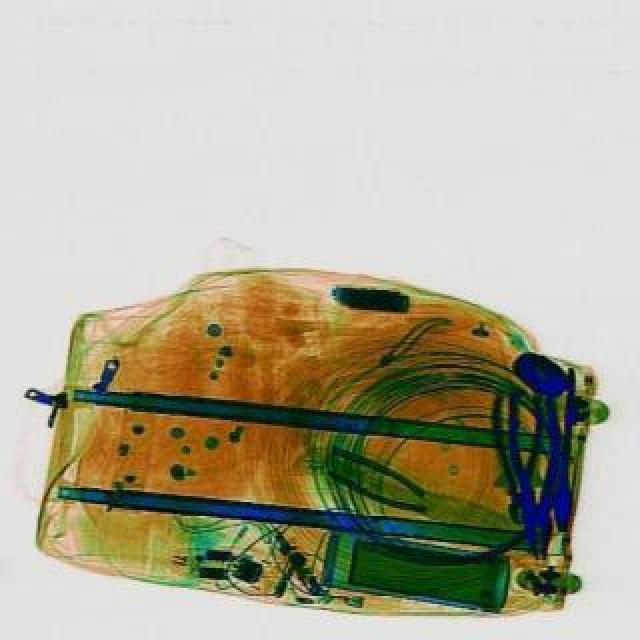wrench: (504, 392, 564, 558), (488, 394, 544, 522)
